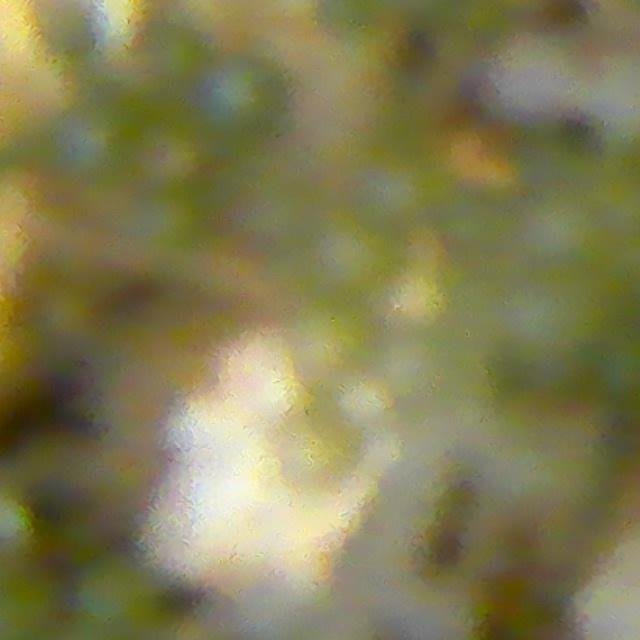SeaGrape: (51, 96, 138, 184), (199, 53, 280, 136)
